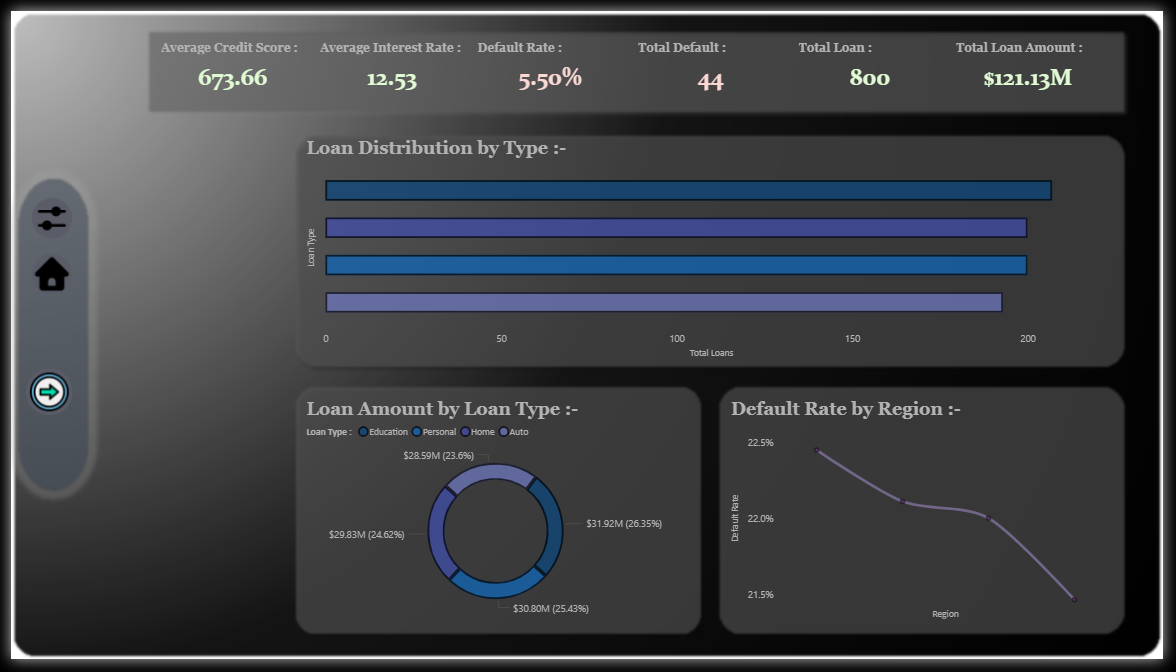

Layout of this report page (visuals, bound fields, positions):
{"tool":"powerbi","page":{"name":"Executive Credit Overview :-","canvas":[1280,720],"ordinal":1},"visuals":[{"type":"card","title":"Average Credit Score  :","fields":{"Values":["MyMeasures.Avg Credit Score"]},"box":[161.6,33.3,169.2,69.9],"z":0,"group":"g2"},{"type":"clusteredBarChart","title":"Loan Distribution by Type :-","fields":{"Category":["tab_loans.loan_type"],"Y":["MyMeasures.Total Loans"]},"box":[323.7,139.9,897.9,250.5],"z":0,"group":"g1"},{"type":"group","id":"g1","title":"Visuals ","box":[323.7,139.9,901.1,540],"z":0},{"type":"actionButton","title":"Next_Page","box":[0,374.1,84.6,99.2],"z":0,"group":"g3"},{"type":"group","id":"g2","title":"All KPIs","box":[161.6,33.3,1052.8,69.9],"z":1000},{"type":"card","title":"Average Interest Rate :","fields":{"Values":["MyMeasures.Avg Interest Rate"]},"box":[337.8,33.3,169.2,69.9],"z":1000,"group":"g2"},{"type":"actionButton","title":"Home_Page","box":[9,255.4,74.8,74.8],"z":1000,"group":"g3"},{"type":"lineChart","title":"Default Rate by Region :-","fields":{"Category":["tab_customers.region"],"Y":["MyMeasures.Default Rate %"]},"box":[795.4,429.4,429.4,250.5],"z":1000,"group":"g1"},{"type":"card","title":"Default Rate :","fields":{"Values":["MyMeasures.Default Rate %"]},"box":[514,33.3,170.8,69.9],"z":2000,"group":"g2"},{"type":"group","id":"g3","title":"Buttons ","box":[0,193.6,84.6,279.8],"z":2000},{"type":"actionButton","title":"Filter_Page","box":[9,193.6,74.8,74.8],"z":2000,"group":"g3"},{"type":"donutChart","title":"Loan Amount by Loan Type :-","fields":{"Category":["tab_loans.loan_type"],"Y":["MyMeasures.Total Loan Amount"]},"box":[323.7,429.4,429.4,250.5],"z":2000,"group":"g1"},{"type":"card","title":"Total Default :","fields":{"Values":["MyMeasures.Total Defaults"]},"box":[691.8,33.3,170.8,69.9],"z":3000,"group":"g2"},{"type":"card","title":"Total Loan Amount :","fields":{"Values":["MyMeasures.Total Loan Amount"]},"box":[1044.8,33.3,169.6,69.7],"z":4000,"group":"g2"},{"type":"card","title":"Total Loan :","fields":{"Values":["MyMeasures.Total Loans"]},"box":[869.7,33.3,168.1,69.7],"z":5000,"group":"g2"}]}

Visuals, with their boxes in screenshot pixels (x1, y1, x2, y2), scaled from the page's 1280x720 canvas onto the 1176x672 screenshot:
"Average Credit Score  :" card: {"x1": 148, "y1": 31, "x2": 304, "y2": 96}
"Loan Distribution by Type :-" clusteredBarChart: {"x1": 297, "y1": 131, "x2": 1122, "y2": 364}
"Visuals " group: {"x1": 297, "y1": 131, "x2": 1125, "y2": 635}
"Next_Page" actionButton: {"x1": 0, "y1": 349, "x2": 78, "y2": 442}
"All KPIs" group: {"x1": 148, "y1": 31, "x2": 1116, "y2": 96}
"Average Interest Rate :" card: {"x1": 310, "y1": 31, "x2": 466, "y2": 96}
"Home_Page" actionButton: {"x1": 8, "y1": 238, "x2": 77, "y2": 308}
"Default Rate by Region :-" lineChart: {"x1": 731, "y1": 401, "x2": 1125, "y2": 635}
"Default Rate :" card: {"x1": 472, "y1": 31, "x2": 629, "y2": 96}
"Buttons " group: {"x1": 0, "y1": 181, "x2": 78, "y2": 442}
"Filter_Page" actionButton: {"x1": 8, "y1": 181, "x2": 77, "y2": 251}
"Loan Amount by Loan Type :-" donutChart: {"x1": 297, "y1": 401, "x2": 692, "y2": 635}
"Total Default :" card: {"x1": 636, "y1": 31, "x2": 793, "y2": 96}
"Total Loan Amount :" card: {"x1": 960, "y1": 31, "x2": 1116, "y2": 96}
"Total Loan :" card: {"x1": 799, "y1": 31, "x2": 953, "y2": 96}
